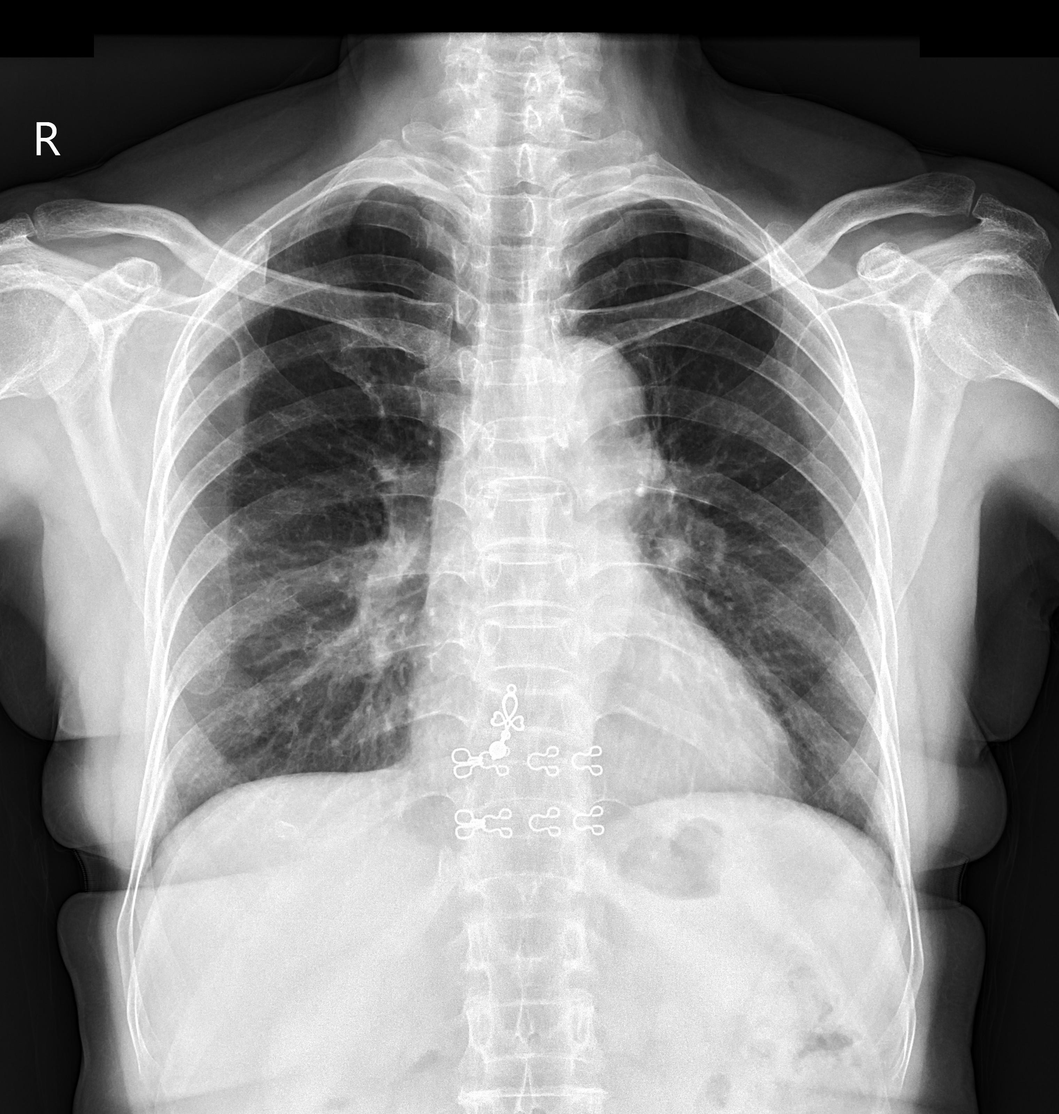Aortic enlargement: (520, 334, 649, 499)
Cardiomegaly: (405, 680, 808, 823)
Pleural thickening: (315, 175, 421, 204)
